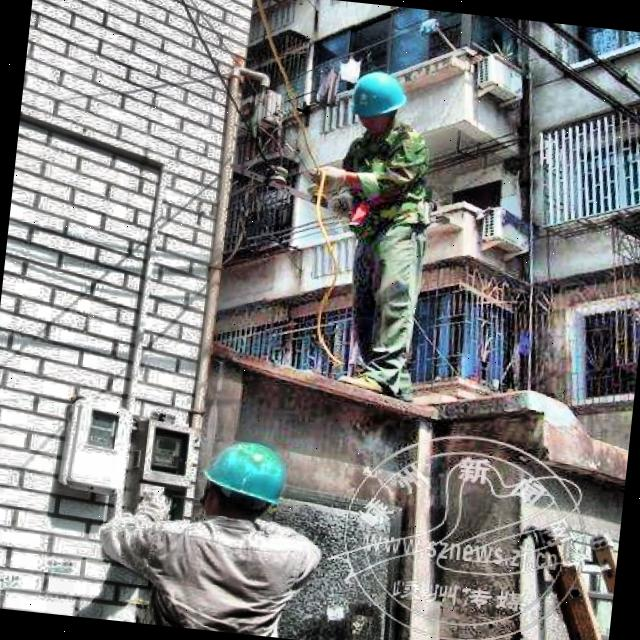helmet: (188, 432, 298, 538), (346, 66, 412, 138)
